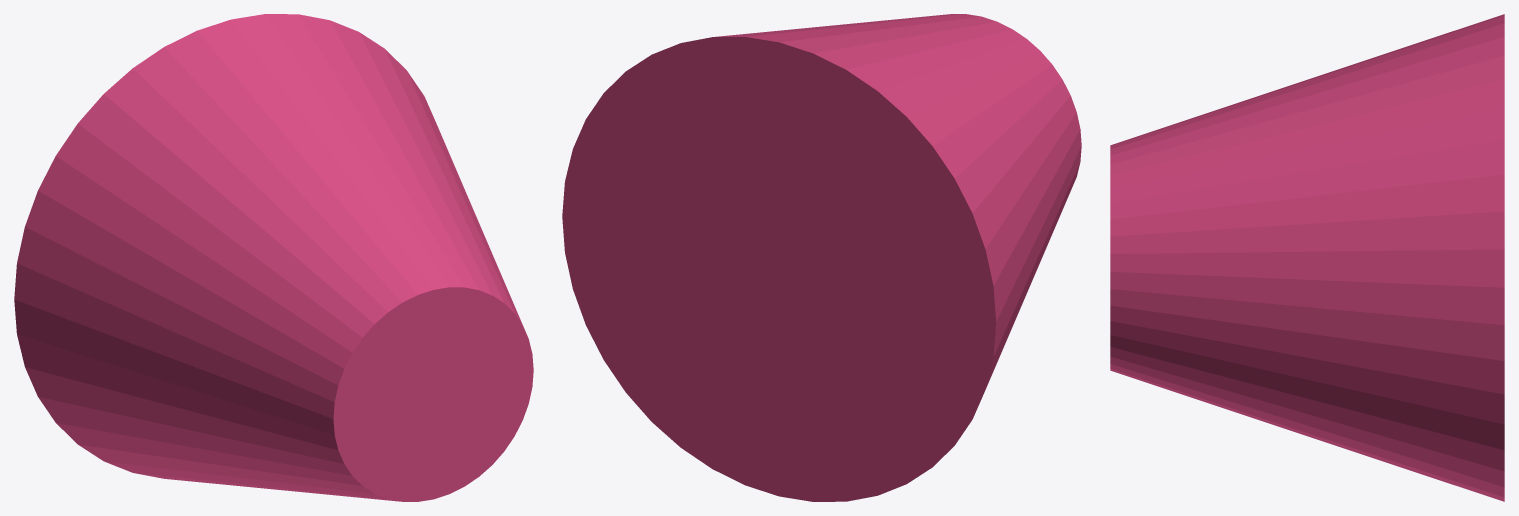
Rendered from frustum.obj.
3 views of the same model, side by side, from view 1: azimuth 30°, elevation 25°; view 2: azimuth 150°, elevation 25°; view 3: azimuth 270°, elevation 25° (orthographic). The views are drawn at different scales.
Size of the model in its own units: 0.052 by 0.052 by 0.042.
